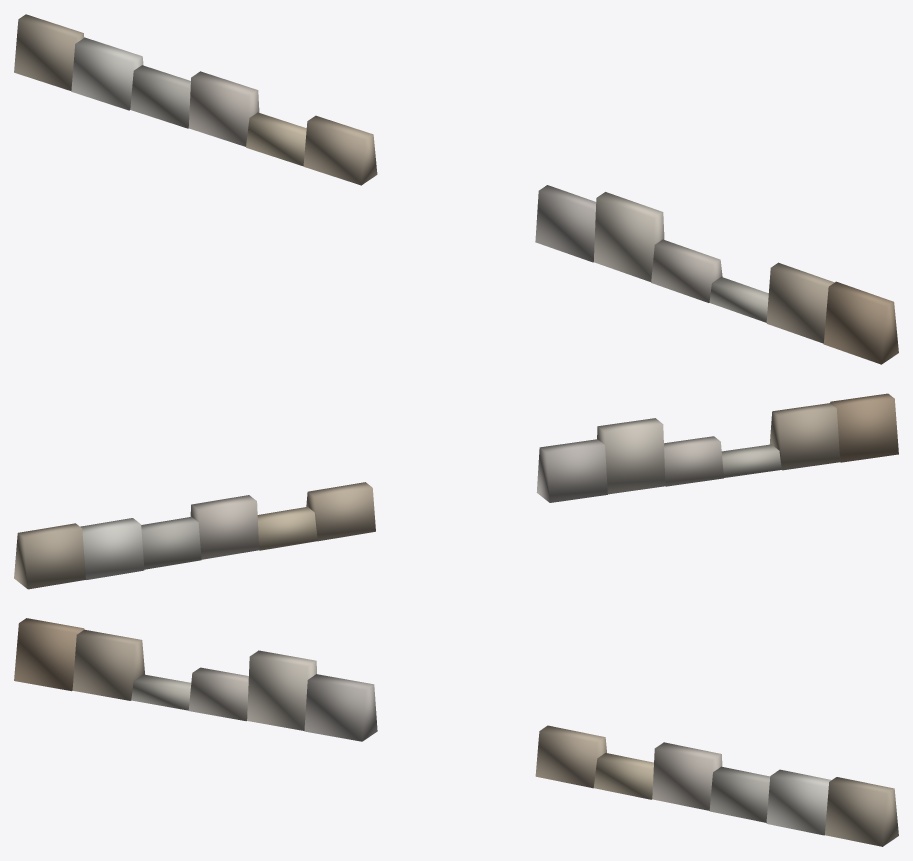
File: farm_13_9_collision.glb
The picture shows the model from 3 angles, top to bottom: view 1: azimuth 90°, elevation 25°; view 2: azimuth 150°, elevation 25°; view 3: azimuth 270°, elevation 25°; orthographic projection. The views are drawn at different scales.
Visible parts, largest first — view 1: geometry_0; view 2: geometry_0; view 3: geometry_0.
Part boxes in pixels (x1,y1,x2,y2): geometry_0: (14, 14, 898, 364); geometry_0: (14, 393, 898, 589); geometry_0: (14, 618, 898, 846).
Bounding box in the file's own units: 12.8 × 2.81 × 19.91.
